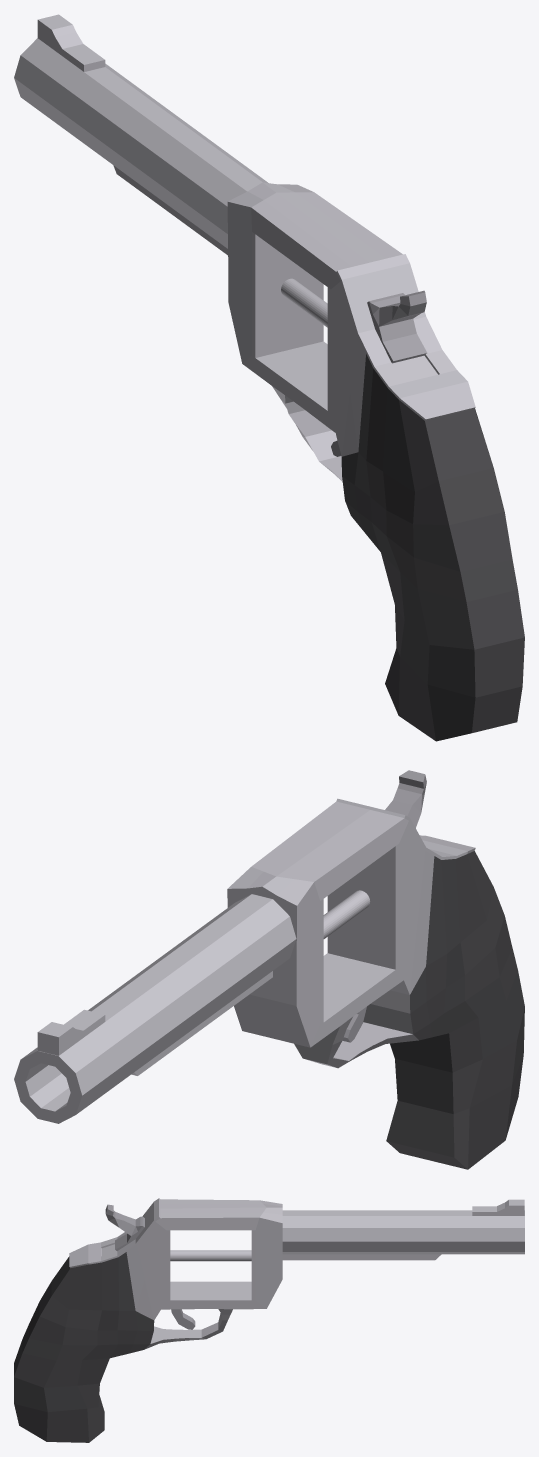
File: RevolverGun.glb
The picture shows the model from 3 angles, top to bottom: view 1: azimuth 30°, elevation 25°; view 2: azimuth 150°, elevation 25°; view 3: azimuth 270°, elevation 25°; orthographic projection. The views are drawn at different scales.
Parts seen in each view (by area): view 1: Revolver Gun; view 2: Revolver Gun; view 3: Revolver Gun.
Part boxes in pixels (left/top/right/bottom): Revolver Gun: left=14, top=14, right=524, bottom=741; Revolver Gun: left=14, top=770, right=524, bottom=1169; Revolver Gun: left=14, top=1198, right=524, bottom=1442.
Bounding box in the file's own units: 1.57 × 6.86 × 13.75.
1 material, 1 textured.
